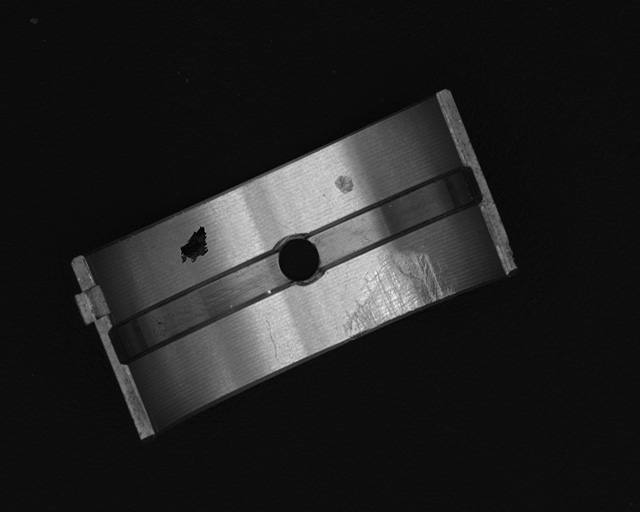blot: (179, 227, 210, 265)
bruise: (335, 175, 355, 196)
gap: (110, 252, 295, 360), (310, 167, 486, 269)
hole: (273, 232, 323, 289)
nick: (263, 318, 281, 365)
scratch: (343, 249, 457, 339)
